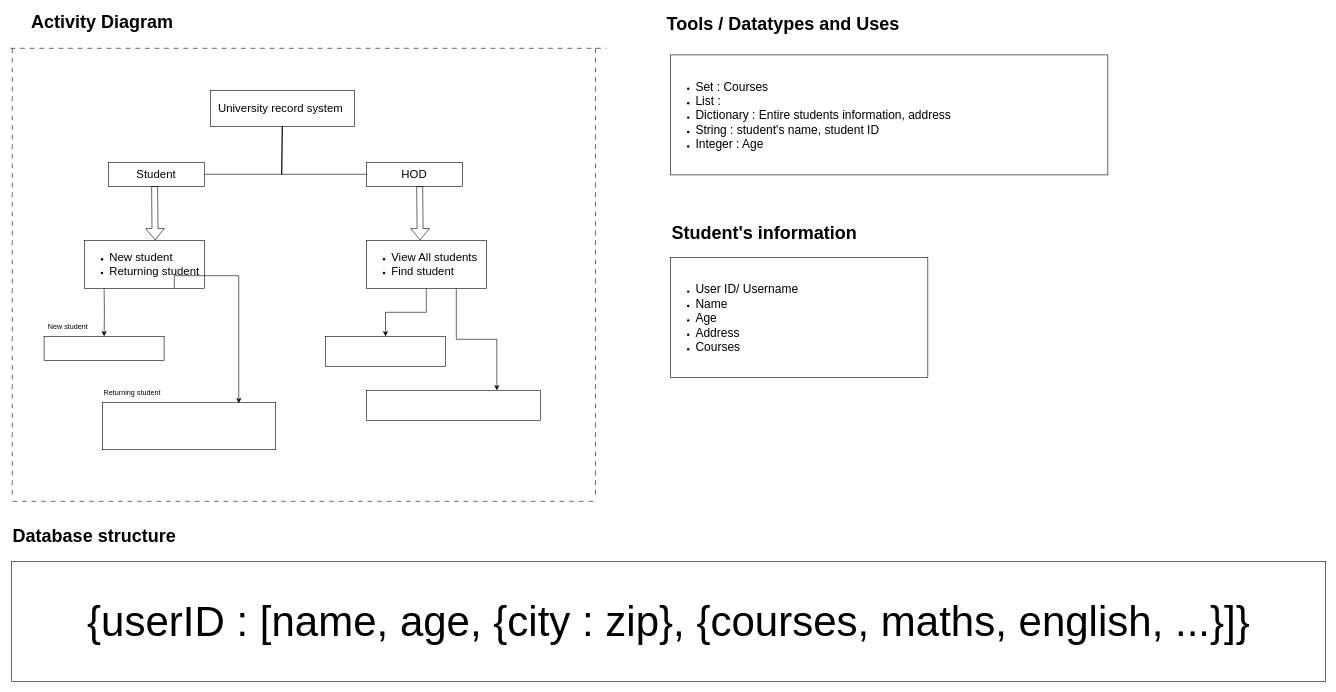
This 1336x692 diagram has some shape labels left out. The shapes that lost their labels are listed below. From the top down, each one's centre as x and y in pixels, then its label:
pixel 104 348: Enter your information
pixel 385 351: Display all students
pixel 453 405: View student by name / user ID
pixel 189 426: View information Edit your information
